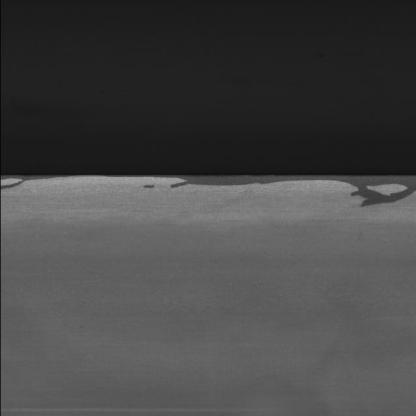water_spot: (19, 166, 416, 210)
